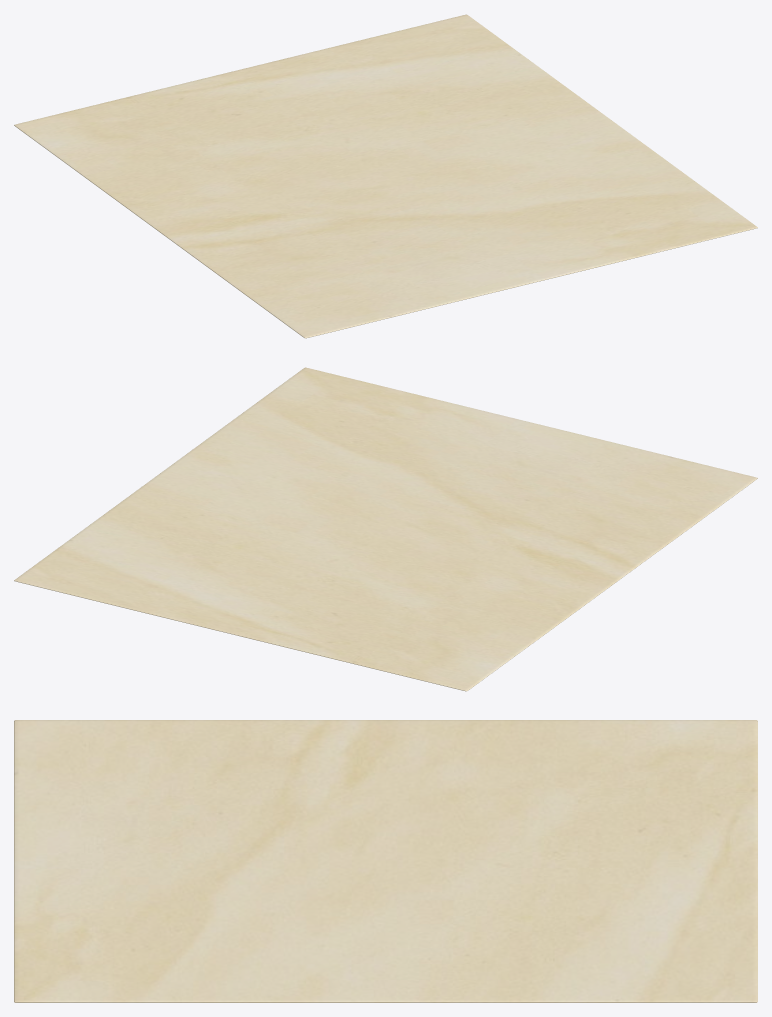
File: alfombra1.obj
3 views of the same model, one above another, from view 1: azimuth 30°, elevation 25°; view 2: azimuth 150°, elevation 25°; view 3: azimuth 270°, elevation 25° (orthographic). The views are drawn at different scales.
Parts seen in each view (by area): view 1: 10417_Rectangular_rug_v1_iterations-2; view 2: 10417_Rectangular_rug_v1_iterations-2; view 3: 10417_Rectangular_rug_v1_iterations-2.
Part boxes in pixels (x1,y1,x2,y2): 10417_Rectangular_rug_v1_iterations-2: (14, 14, 757, 338); 10417_Rectangular_rug_v1_iterations-2: (14, 367, 757, 691); 10417_Rectangular_rug_v1_iterations-2: (14, 720, 757, 1002).
Size of the model in its own units: 98.36 by 0.2139 by 110.
1 material, 1 textured.
